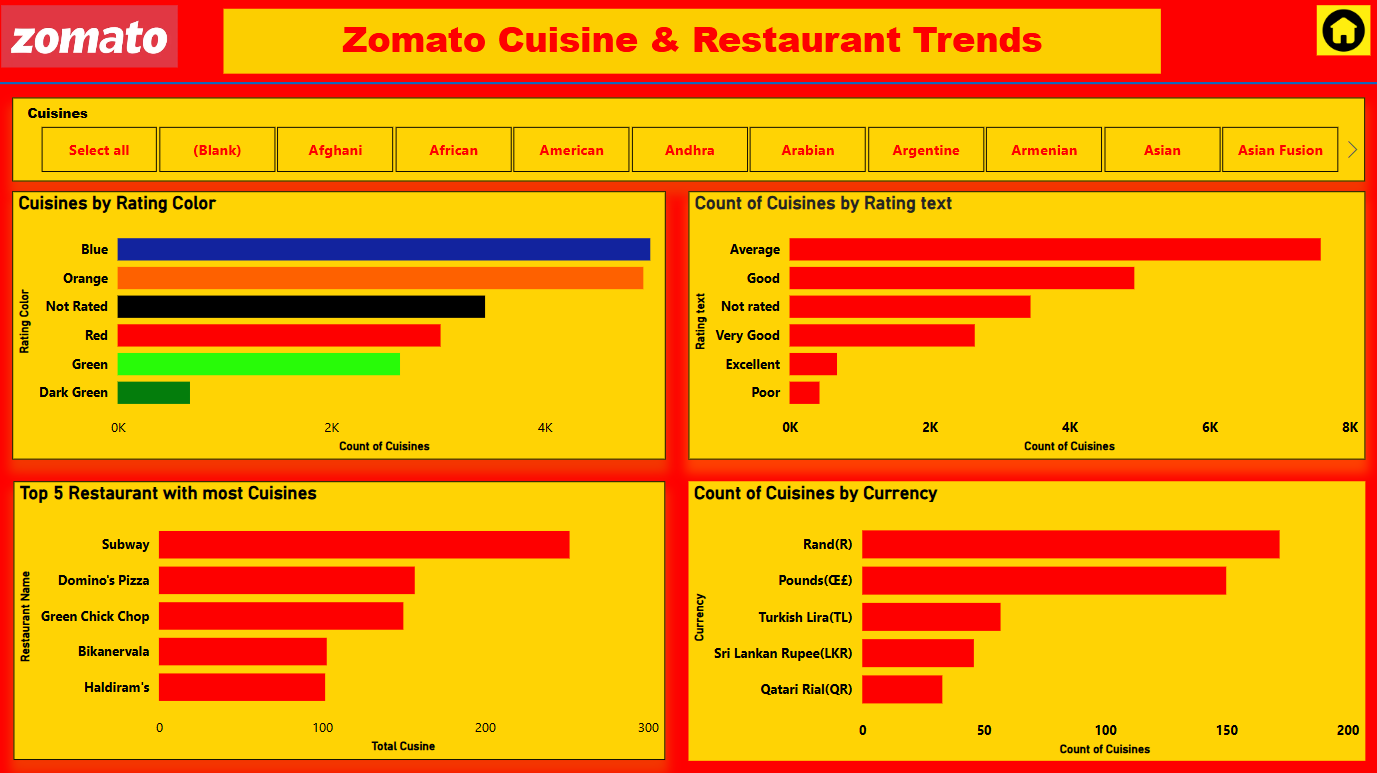

What the dashboard file says about the page in this screenshot:
{"tool":"powerbi","page":{"name":"Zomato Cuisine & Restaurant Trends","canvas":[1280,720],"ordinal":2},"visuals":[{"type":"image","box":[0,0,173,67.5],"z":1},{"type":"shape","box":[0,68,1280,17.3],"z":2},{"type":"slicer","fields":{"Values":["Cuisines.Cuisines"]},"box":[14.7,90.7,1250.7,77.3],"z":3},{"type":"clusteredBarChart","title":" Cuisines by Rating Color","fields":{"Category":["Fact Table.Rating Color"],"Y":["CountNonNull(Cuisines.Cuisines)"]},"box":[14.7,177.3,604,248],"z":4},{"type":"clusteredBarChart","title":"Top 5 Restaurant with most Cuisines","fields":{"Y":["Cuisines.Total Cusine"],"Category":["Cuisines.Restaurant Name"]},"box":[16,445.3,602.7,257.3],"z":5},{"type":"clusteredBarChart","fields":{"Category":["Fact Table.Rating text"],"Y":["CountNonNull(Cuisines.Cuisines)"]},"box":[640,177.3,625.3,248],"z":6},{"type":"clusteredBarChart","fields":{"Category":["Fact Table.Currency"],"Y":["CountNonNull(Cuisines.Cuisines)"]},"box":[640,445.3,625.3,258.7],"z":7},{"type":"textbox","box":[210.7,8,866.7,60],"z":8}]}

Visuals, with their boxes in screenshot pixels (x1, y1, x2, y2), scaled from the page's 1280x720 canvas onto the 1377x773 screenshot:
image: rect(0, 0, 186, 72)
shape: rect(0, 73, 1376, 92)
slicer - Cuisines.Cuisines: rect(16, 97, 1361, 180)
" Cuisines by Rating Color" clusteredBarChart: rect(16, 190, 666, 457)
"Top 5 Restaurant with most Cuisines" clusteredBarChart: rect(17, 478, 666, 754)
clusteredBarChart - Fact Table.Rating text x CountNonNull(Cuisines.Cuisines): rect(688, 190, 1361, 457)
clusteredBarChart - Fact Table.Currency x CountNonNull(Cuisines.Cuisines): rect(688, 478, 1361, 756)
textbox: rect(227, 9, 1159, 73)
